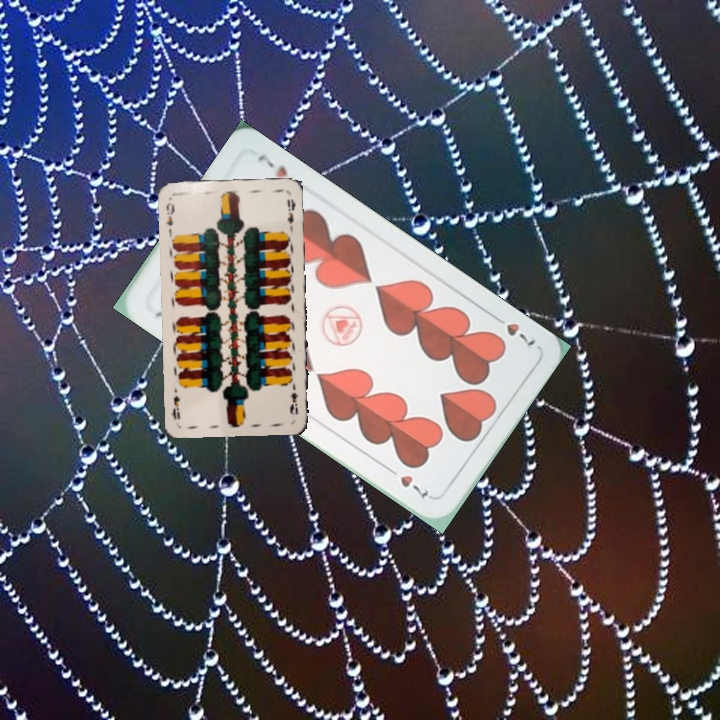E9: (286, 379, 301, 418), (162, 199, 177, 228)
H7: (488, 310, 539, 349)
